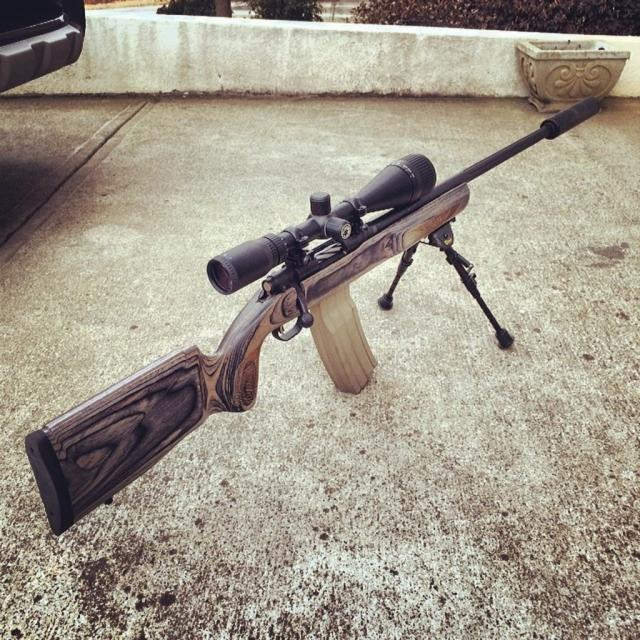weapon: (24, 96, 600, 537)
